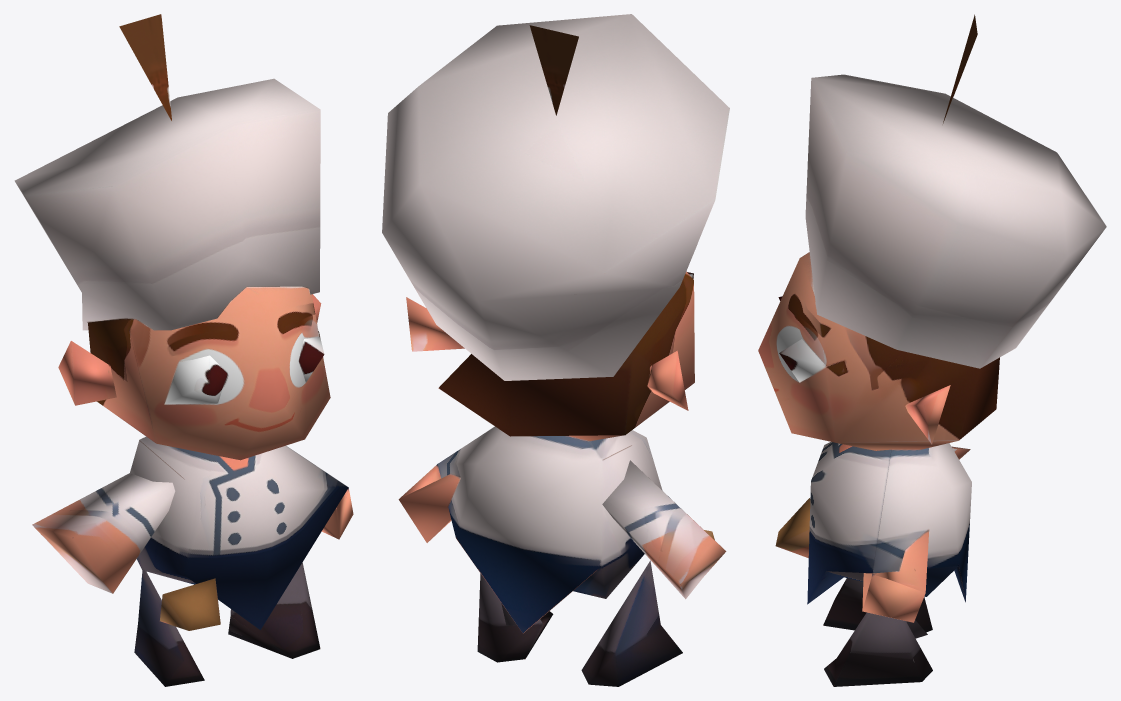
File: chef1.glb
3 views of the same model, side by side, from view 1: azimuth 30°, elevation 25°; view 2: azimuth 150°, elevation 25°; view 3: azimuth 270°, elevation 25° (orthographic). The views are drawn at different scales.
Size of the model in its own units: 0.5212 by 1 by 0.5175.
Materials: 1 (1 with a texture image).
